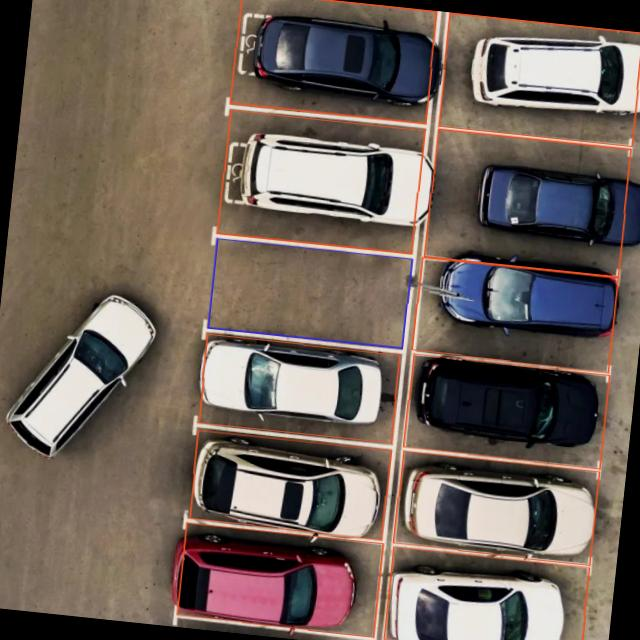car: (218, 103, 427, 254), (430, 125, 630, 260), (436, 11, 640, 143), (172, 520, 384, 640), (186, 424, 393, 545), (418, 248, 618, 372), (195, 326, 401, 446), (391, 450, 600, 568), (236, 0, 439, 120), (404, 352, 608, 471), (379, 545, 588, 640)
free: (208, 232, 414, 351)
